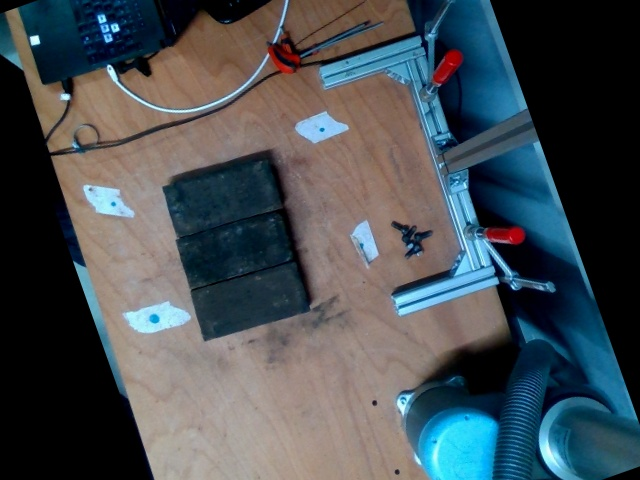brick: (188, 261, 309, 341), (175, 209, 295, 289), (161, 157, 281, 237)
